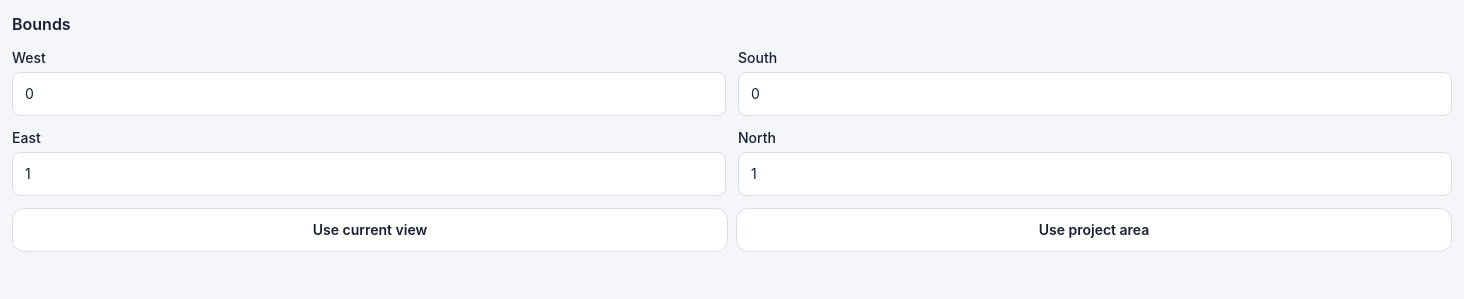
Test: BoundsEditor › shows an area error instead of updating bounds when project points collapse to zero area
Click the button "Use project area" at coordinates (1094, 230), box top-left (736, 208), bottom-right (1452, 252)
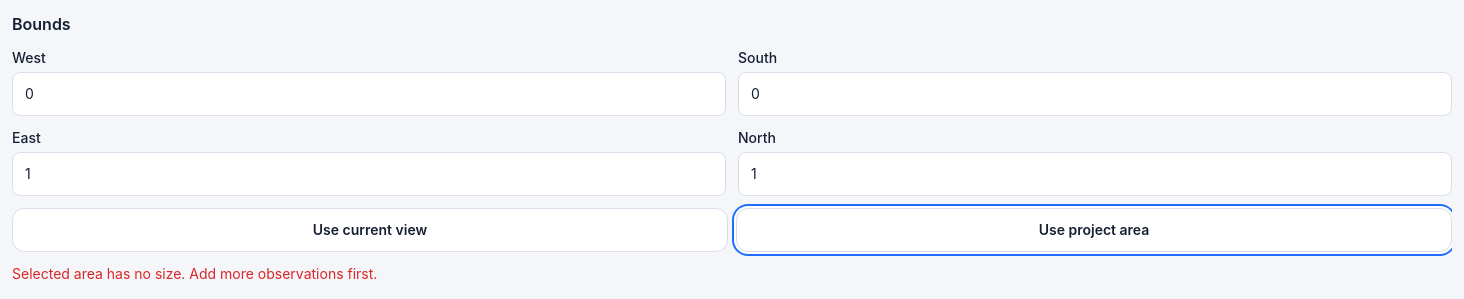
Expected: the text "Selected area has no size. Add more observations first." is shown, top-left (12, 265), bottom-right (377, 282)
